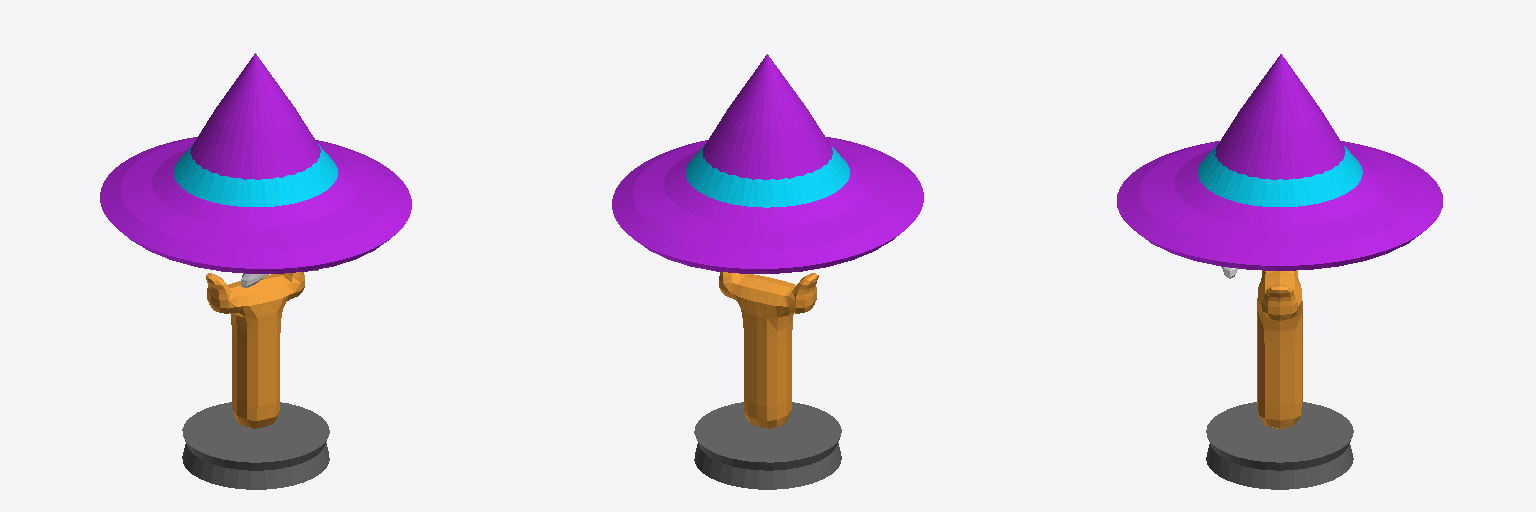
3 views of the same model, side by side, from view 1: azimuth 30°, elevation 25°; view 2: azimuth 150°, elevation 25°; view 3: azimuth 270°, elevation 25° (orthographic).
Visible parts, largest first — view 1: 円錐, Cylinder, 立方体; view 2: 円錐, Cylinder, 立方体; view 3: 円錐, Cylinder, 立方体.
Part boxes in pixels (x1,y1,x2,y2): 円錐: (100, 53, 411, 273); Cylinder: (182, 402, 329, 489); 立方体: (206, 272, 304, 428); 円錐: (612, 54, 923, 273); Cylinder: (694, 402, 841, 489); 立方体: (719, 272, 818, 428); 円錐: (1117, 54, 1442, 270); Cylinder: (1206, 402, 1353, 489); 立方体: (1257, 270, 1302, 428).
Bounding box in the file's own units: 2.66 × 3.88 × 2.83.
5 materials, 5 textured.